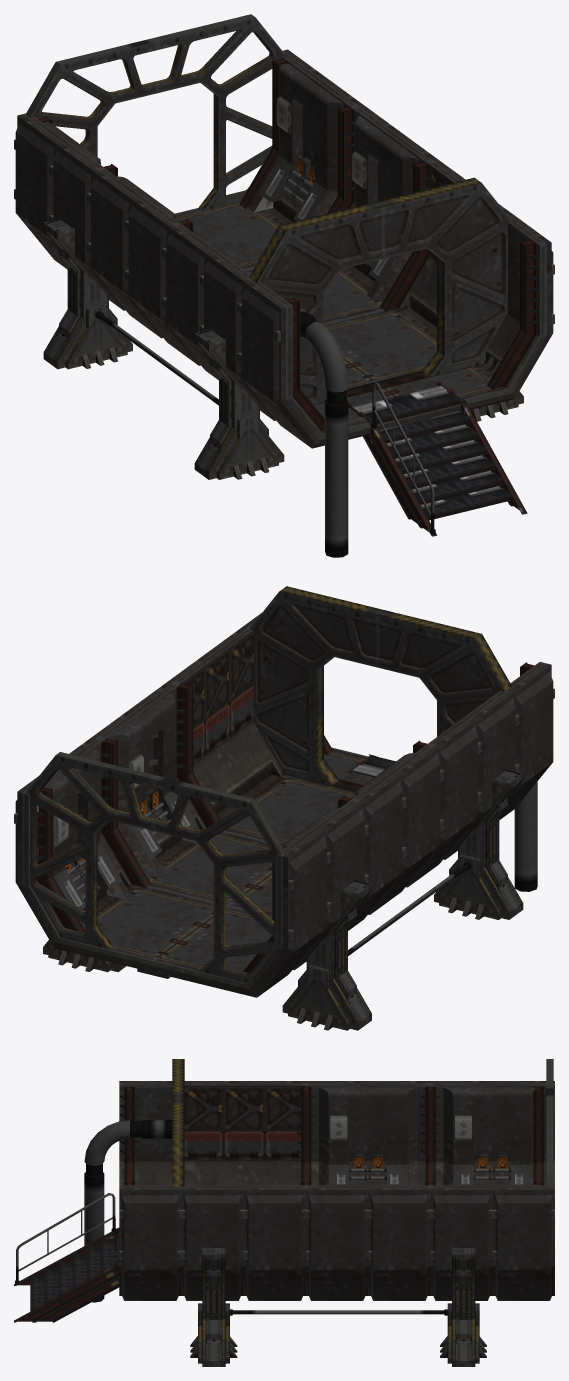
The model's file is Autonomous_unit_1.FBX.
3 views of the same model, one above another, from view 1: azimuth 30°, elevation 25°; view 2: azimuth 150°, elevation 25°; view 3: azimuth 270°, elevation 25° (orthographic). The views are drawn at different scales.
Parts seen in each view (by area): view 1: Autonomous_unit_1; view 2: Autonomous_unit_1; view 3: Autonomous_unit_1.
Boxes of the visible parts, x1,y1,x2,y2 form: Autonomous_unit_1: (14, 14, 554, 557); Autonomous_unit_1: (14, 586, 554, 1030); Autonomous_unit_1: (14, 1059, 554, 1366).
Bounding box in the file's own units: 724 × 634 × 1304.
